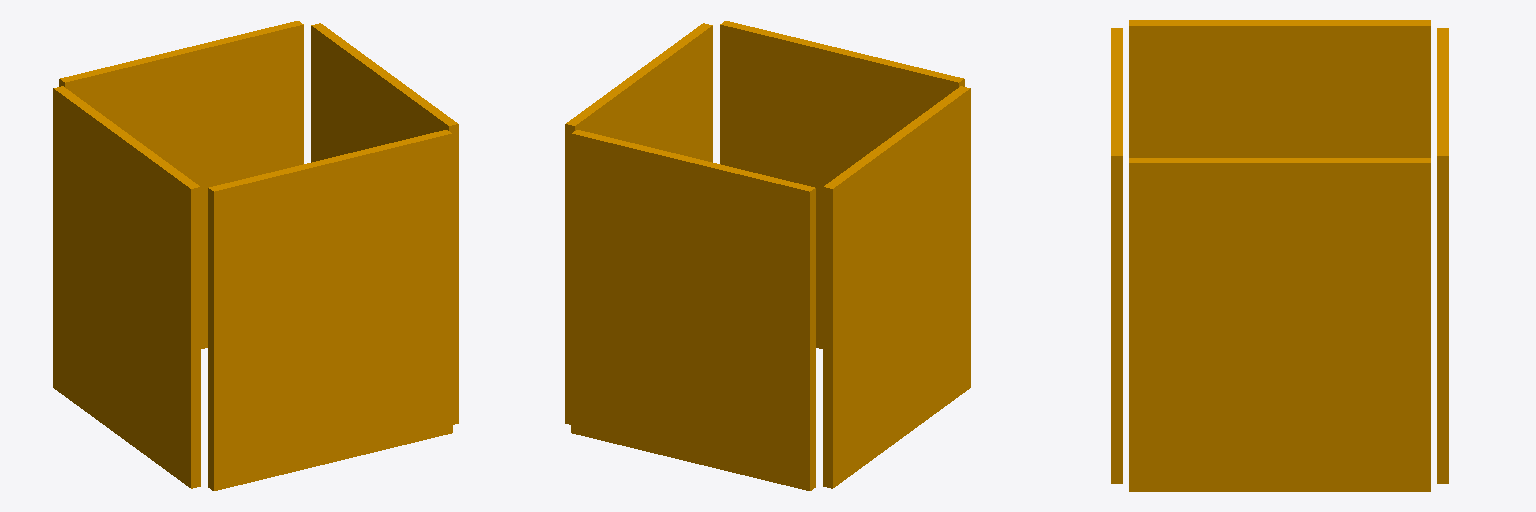
URDF robot description (kitting_board.urdf):
<?xml version="0.0" ?>
<robot name="kitting_board.urdf">
    <link name="baseLink">
        <contact>
            <lateral_friction value="1.2"/>
            <rolling_friction value="0.001"/>
            <inertia_scaling value="2"/>
        </contact>
        <inertial>
            <origin rpy="0 0 0" xyz="0 0 0"/>
            <mass value="20.1"/>
            <inertia ixx="1" ixy="0" ixz="0" iyy="1" iyz="0" izz="1"/>
        </inertial>

        <visual>
            <origin rpy="0 0 0" xyz="-0.135 0 0"/>
            <geometry>
                <box size="0.01 0.25 0.3"/>
            </geometry>
            <material name="purple"/>
        </visual>
        <collision>
            <origin rpy="0 0 0" xyz="-0.135 0 0"/>
            <geometry>
                <box size="0.01 0.25 0.3"/>
            </geometry>
        </collision>

        <visual>
            <origin rpy="0 0 0" xyz="0.0 -0.135 0"/>
            <geometry>
                <box size="0.25 0.01 0.3"/>
            </geometry>
            <material name="purple"/>
        </visual>
        <collision>
            <origin rpy="0 0 0" xyz="0.0 -0.135 0"/>
            <geometry>
                <box size="0.25 0.01 0.3"/>
            </geometry>
        </collision>

        <visual>
            <origin rpy="0 0 0" xyz="0.135 0.0 0"/>
            <geometry>
                <box size="0.01 0.25 0.3"/>
            </geometry>
            <material name="purple"/>
        </visual>
        <collision>
            <origin rpy="0 0 0" xyz="0.135 0.0 0"/>
            <geometry>
                <box size="0.01 0.25 0.3"/>
            </geometry>
        </collision>

        <visual>
            <origin rpy="0 0 0" xyz="0.0 0.135 0"/>
            <geometry>
                <box size="0.25 0.01 0.3"/>
            </geometry>
            <material name="purple"/>
        </visual>
        <collision>
            <origin rpy="0 0 0" xyz="0.0 0.135 0"/>
            <geometry>
                <box size="0.25 0.01 0.3"/>
            </geometry>
        </collision>
    </link>
</robot>

--- Render facts (derived) ---
The picture shows the robot from 3 angles, left to right: view 1: azimuth 30°, elevation 25°; view 2: azimuth 150°, elevation 25°; view 3: azimuth 270°, elevation 25°; orthographic projection.
Model kitting_board.urdf with 1 links and 0 joints (none), rooted at baseLink, posed all joints at 0.
Visible links, largest first — view 1: baseLink; view 2: baseLink; view 3: baseLink.
Link boxes in pixels (<box>): baseLink: <box>53,21,458,490</box>; baseLink: <box>565,21,970,490</box>; baseLink: <box>1111,20,1448,491</box>.
Bounding box of the posed robot: 0.28 × 0.28 × 0.3 m (x, y, z).
Geometry: primitives only (box / cylinder / sphere), no mesh files.